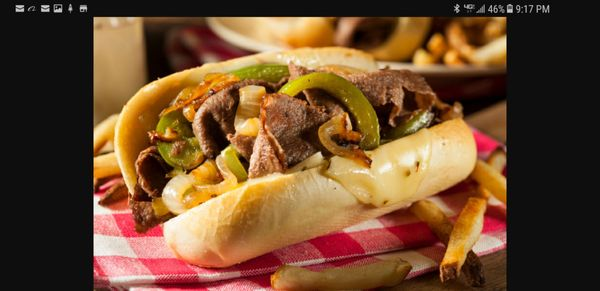soup: (118, 50, 478, 272)
